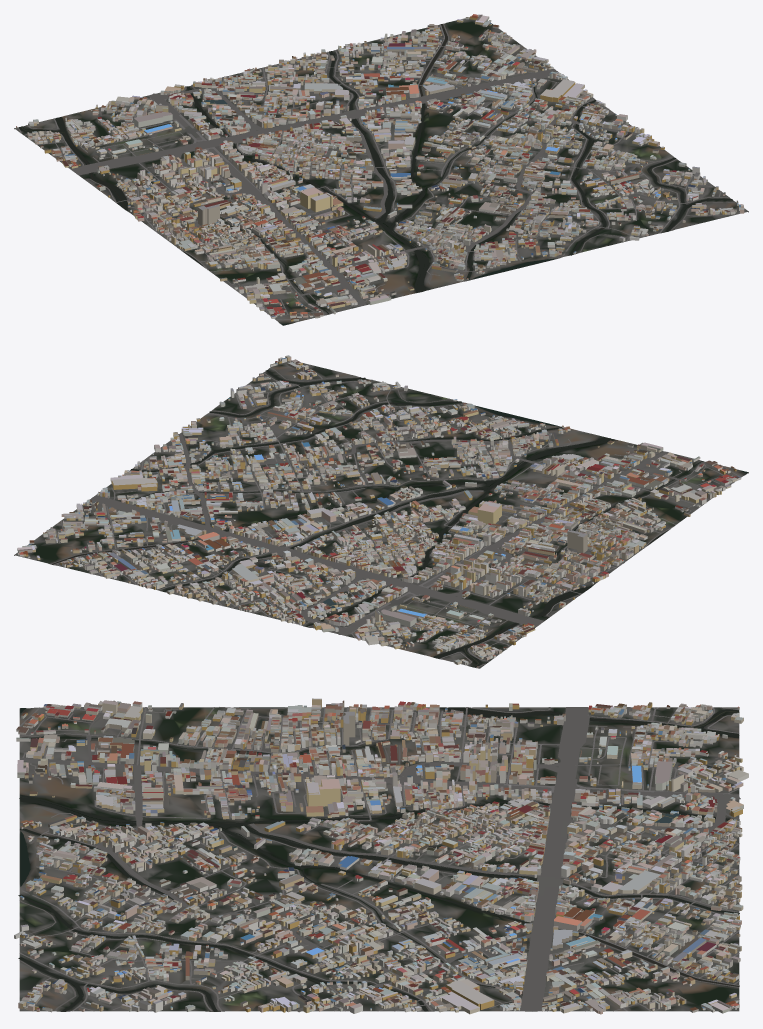
3 renders of one model, top to bottom at view 1: azimuth 30°, elevation 25°; view 2: azimuth 150°, elevation 25°; view 3: azimuth 270°, elevation 25°, orthographic. The views are drawn at different scales.
Parts seen in each view (by area): view 1: buildings, ground, roads, water; view 2: buildings, ground, roads, water; view 3: buildings, ground, roads, water.
Boxes of the visible parts, left/top/right/bottom form: buildings: left=16, top=14, right=744, bottom=321; ground: left=14, top=15, right=748, bottom=325; roads: left=17, top=19, right=739, bottom=319; water: left=19, top=24, right=732, bottom=325; buildings: left=17, top=355, right=741, bottom=668; ground: left=14, top=361, right=748, bottom=668; roads: left=32, top=360, right=741, bottom=667; water: left=51, top=370, right=747, bottom=667; buildings: left=14, top=698, right=748, bottom=1014; ground: left=19, top=707, right=739, bottom=1011; roads: left=19, top=707, right=740, bottom=1012; water: left=18, top=707, right=739, bottom=1011.
Bounding box in the file's own units: 1422 × 52.22 × 1430.
